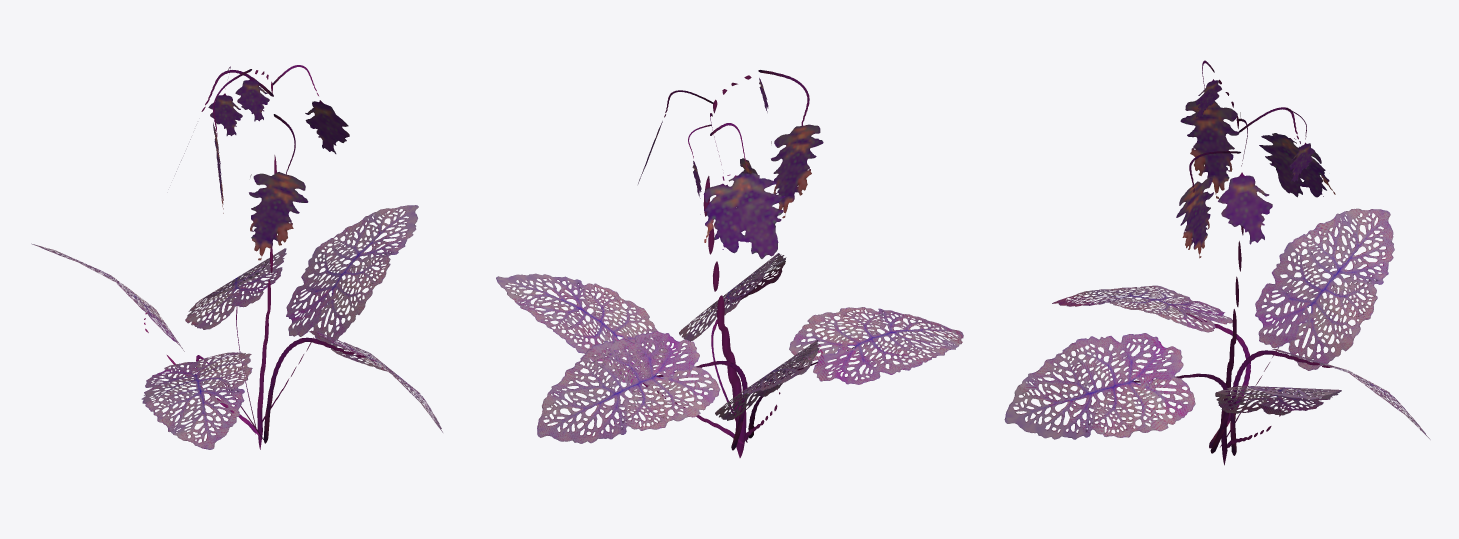
File: Spin Reef C4.fbx
3 renders of one model, left to right at view 1: azimuth 30°, elevation 25°; view 2: azimuth 150°, elevation 25°; view 3: azimuth 270°, elevation 25°, orthographic.
Parts seen in each view (by area): view 1: Spin Reef C4; view 2: Spin Reef C4; view 3: Spin Reef C4.
Boxes of the visible parts, left/top/right/bottom form: Spin Reef C4: left=31, top=65, right=442, bottom=449; Spin Reef C4: left=496, top=70, right=963, bottom=457; Spin Reef C4: left=1004, top=60, right=1430, bottom=465.
Bounding box in the file's own units: 159 × 208 × 167.
